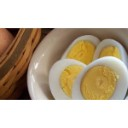begg: (74, 57, 128, 100)
